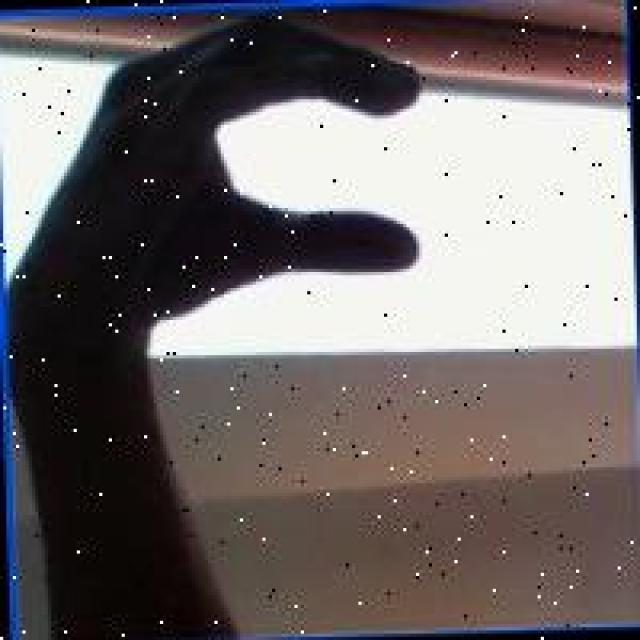C: (27, 5, 434, 350)
